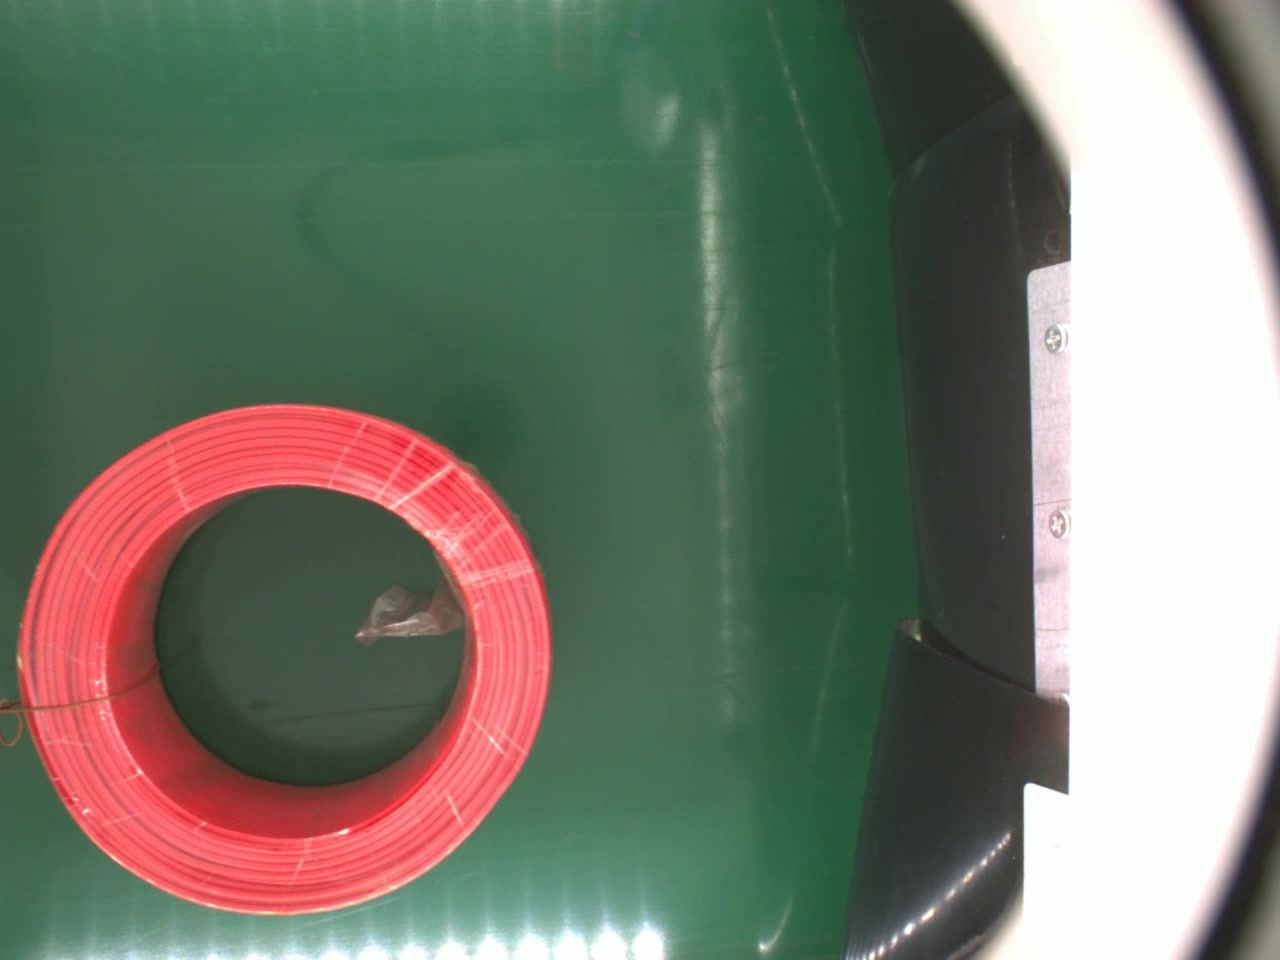red: (14, 396, 564, 921)
